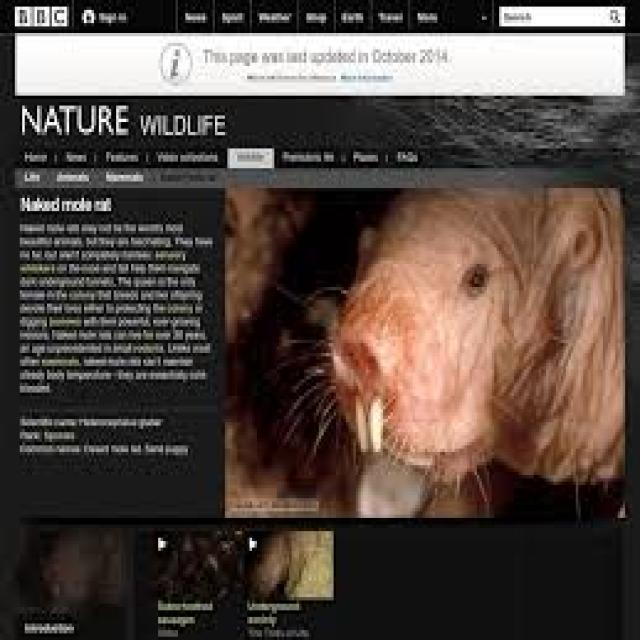rat: (277, 182, 625, 512)
